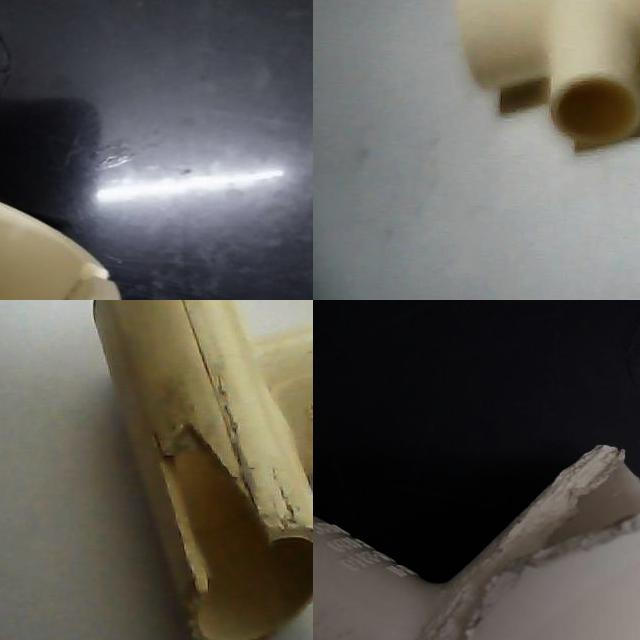Defective: (154, 422, 294, 602), (560, 439, 640, 545), (492, 511, 590, 590), (366, 608, 512, 640), (55, 250, 110, 300)
T Joint: (92, 300, 313, 640)
